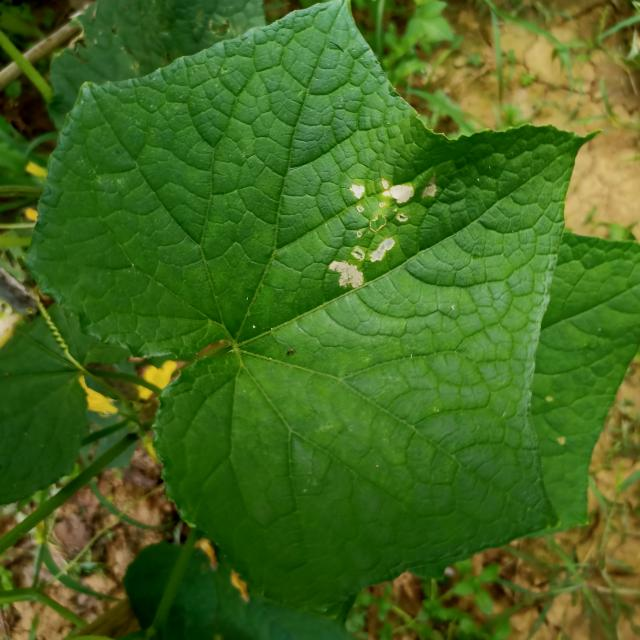disease_cucumber: (322, 173, 440, 296)
